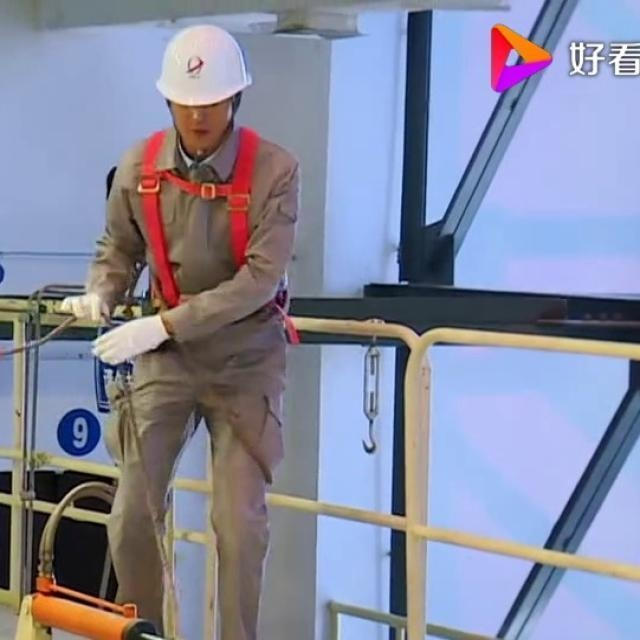Arnes_seguridad: (134, 120, 270, 314)
